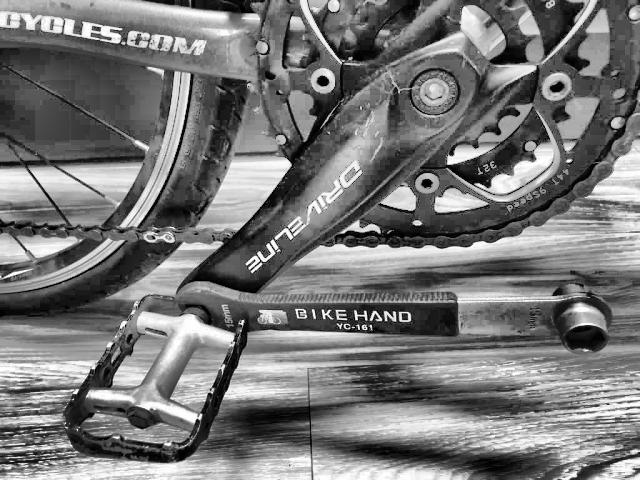cranks_set: (185, 1, 640, 285)
pedal: (68, 290, 254, 465)
